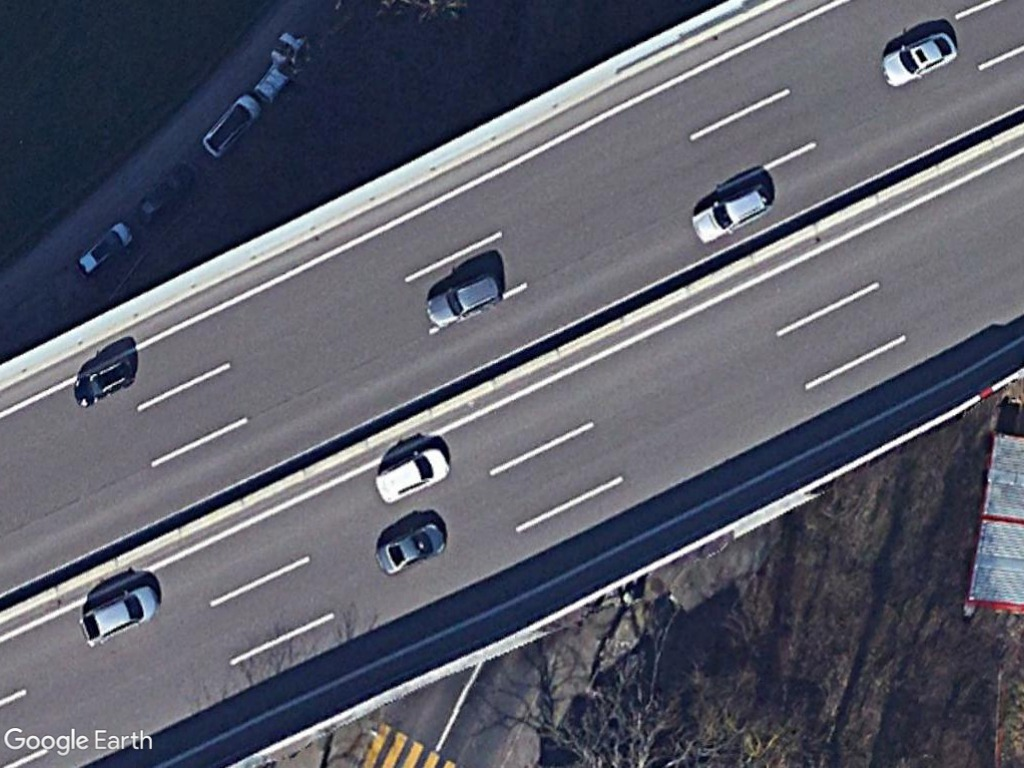car: (79, 580, 163, 649), (689, 182, 773, 248), (373, 444, 453, 507), (878, 28, 958, 89), (424, 269, 501, 327), (374, 520, 447, 578)
